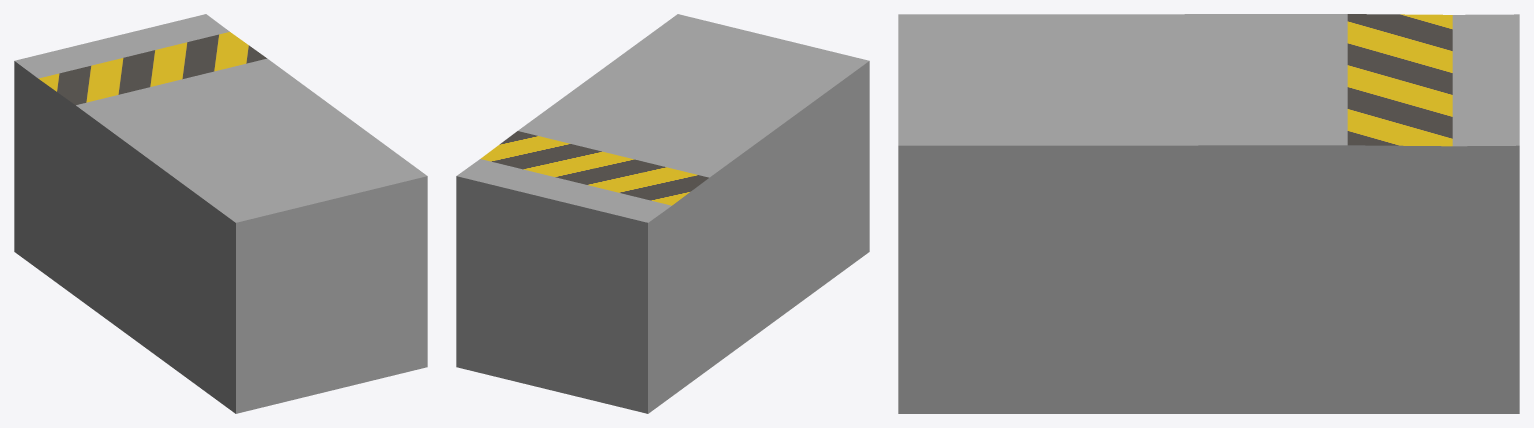
File: LightStoneFloorSmallWarning1.fbx
3 renders of one model, left to right at view 1: azimuth 30°, elevation 25°; view 2: azimuth 150°, elevation 25°; view 3: azimuth 270°, elevation 25°, orthographic. The views are drawn at different scales.
Parts seen in each view (by area): view 1: LightStoneFloorSmallWarning1; view 2: LightStoneFloorSmallWarning1; view 3: LightStoneFloorSmallWarning1.
Part boxes in pixels (box(x1,y1,x2,y2)): LightStoneFloorSmallWarning1: box(14, 14, 427, 413); LightStoneFloorSmallWarning1: box(456, 14, 869, 413); LightStoneFloorSmallWarning1: box(898, 14, 1519, 413).
Bounding box in the file's own units: 200 × 191 × 400.
2 materials, 1 textured.
